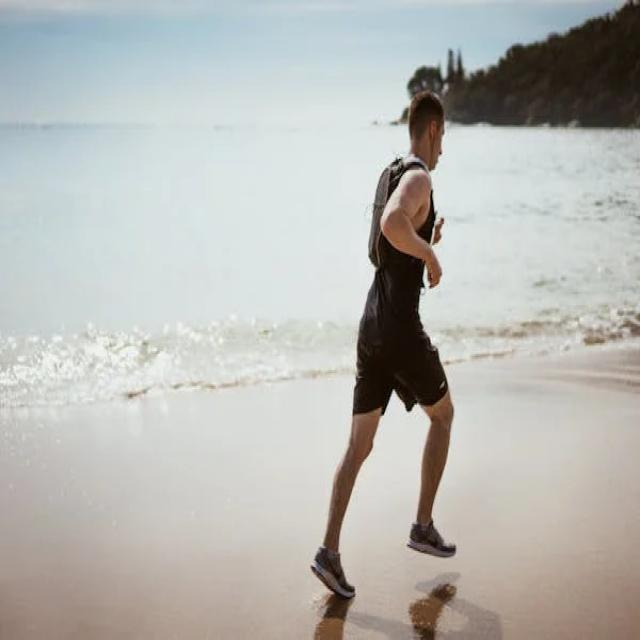Real human 2: (302, 71, 474, 617)
